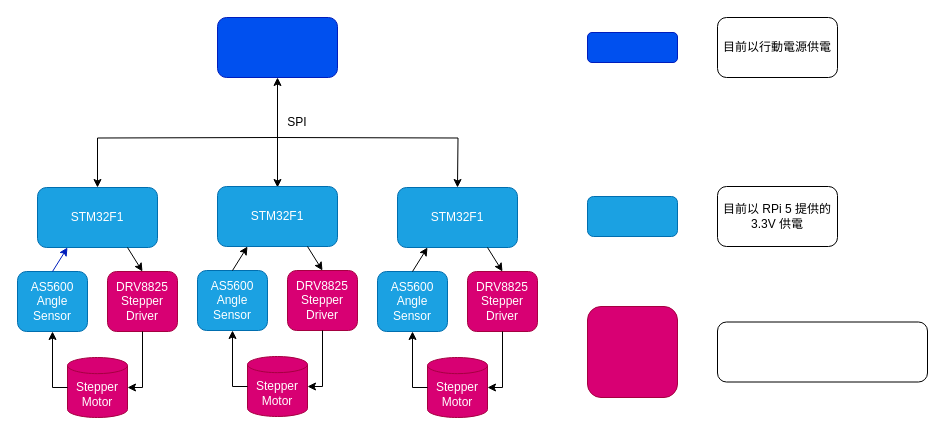
This 945x435 diagram has some shape labels left out. Here are the shapes that lost their labels. From the top down, the centre of each, then its label:
At point (277, 47): "Raspberry Pi 5".
At point (632, 47): "5V / 3A".
At point (632, 216): "3.3V / 200mA Total".
At point (632, 352): "12V / 1A per motor 12V / 3A total".
At point (822, 351): "目前以3串2並 18650鋰電池組供電。 尚未實測有負載時的峰值電流。".
